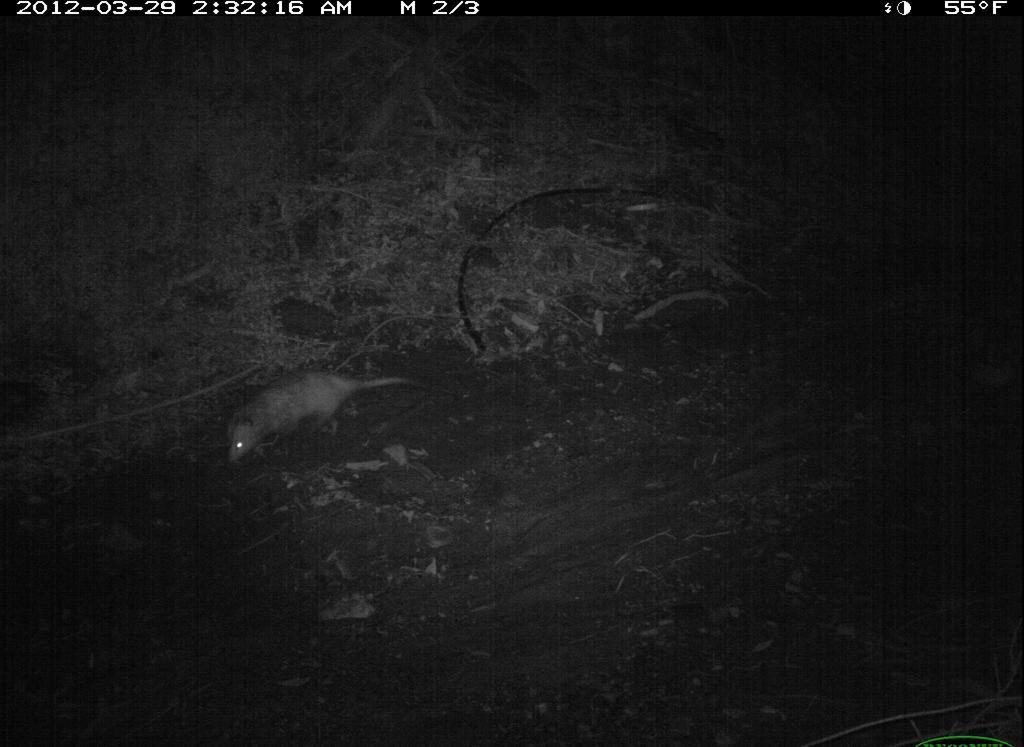opossum: (225, 361, 441, 465)
